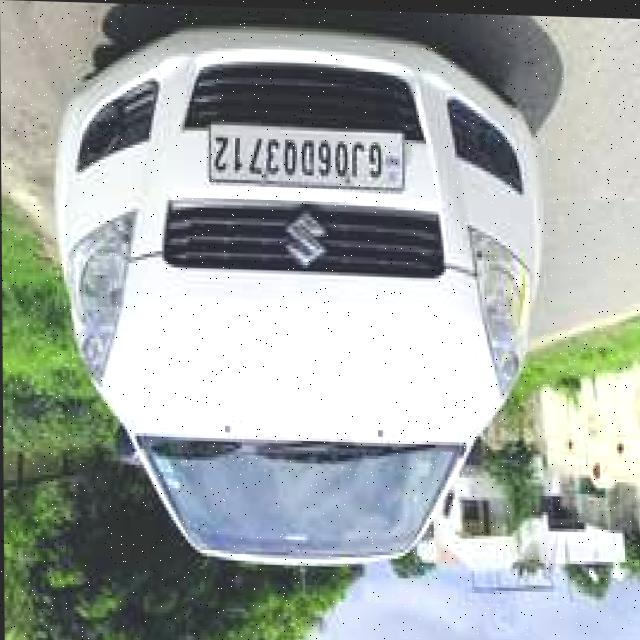plate: (208, 122, 401, 191)
